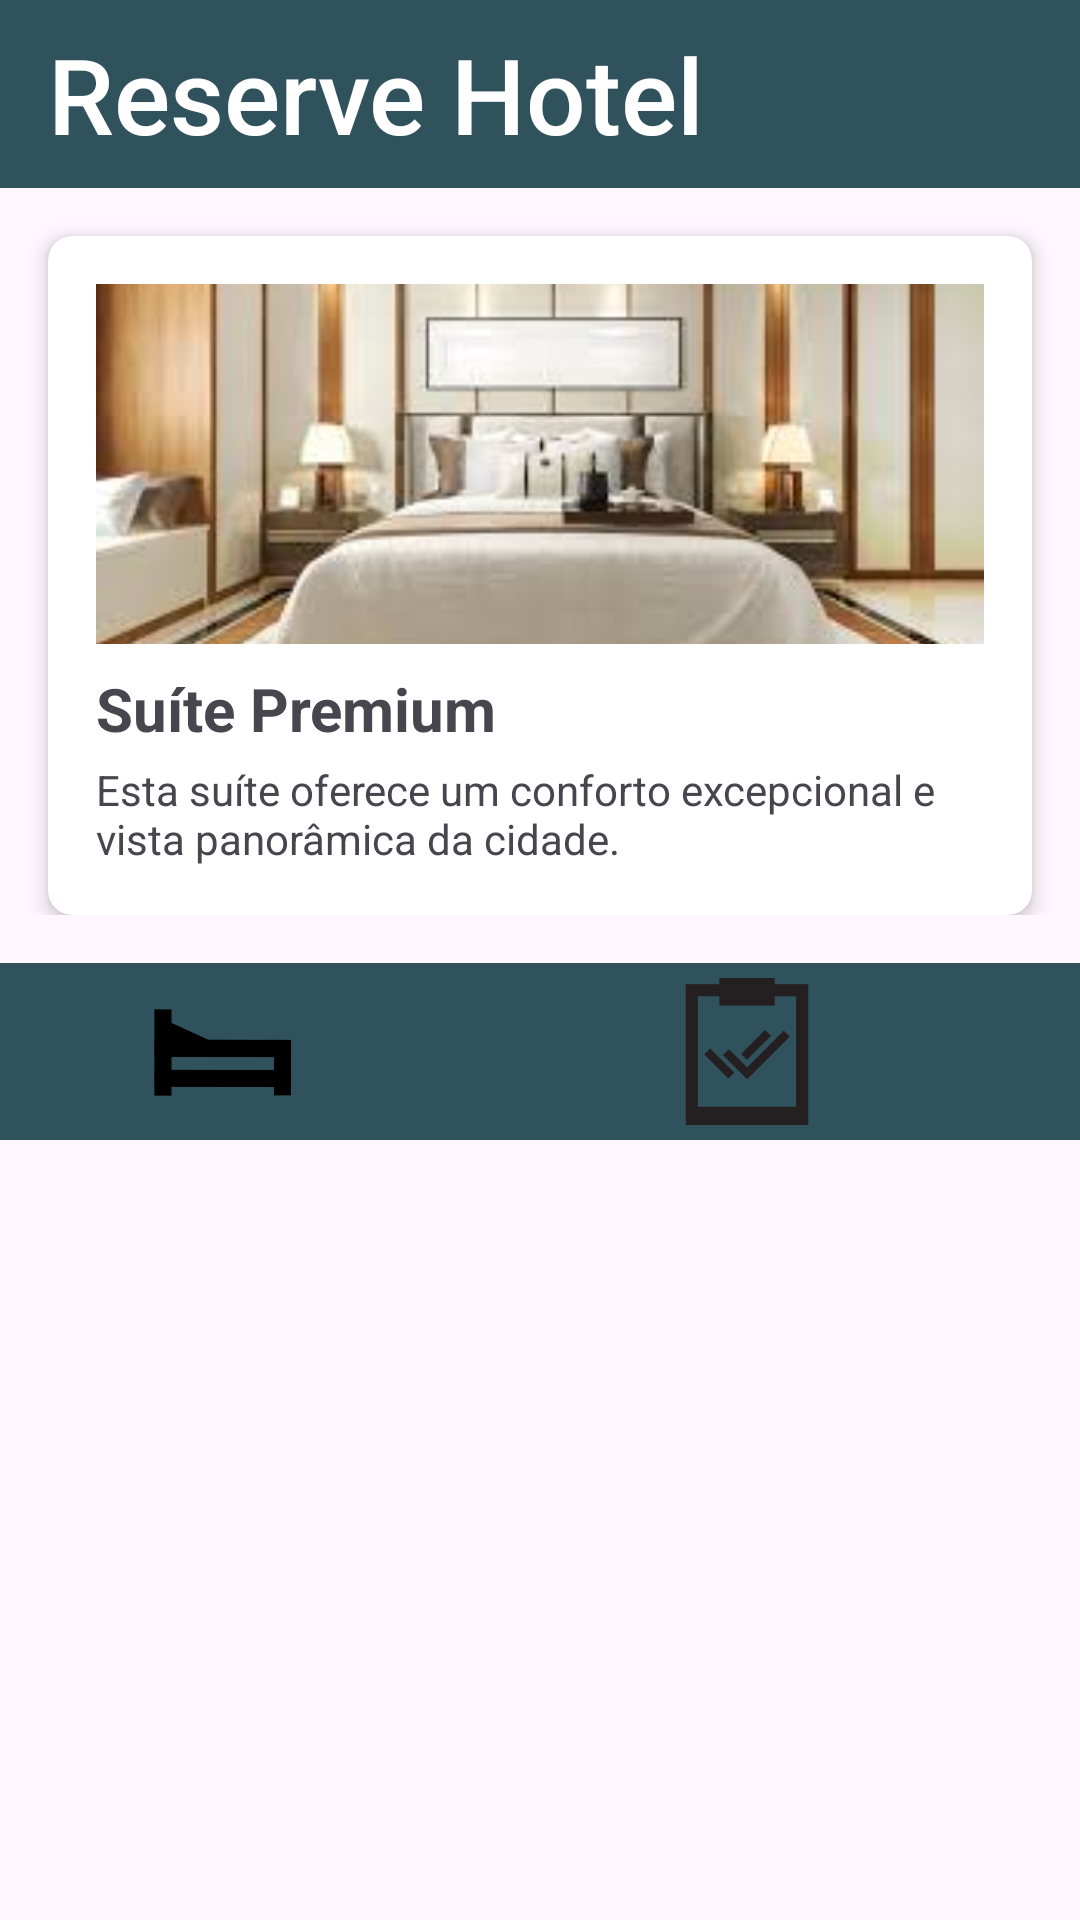

Where icons sit on this 1080 × 1920 app screen, as {"x1": x1, "y1": y1, "x2": x2, "y2": y2}:
reserva: {"x1": 686, "y1": 978, "x2": 808, "y2": 1125}
